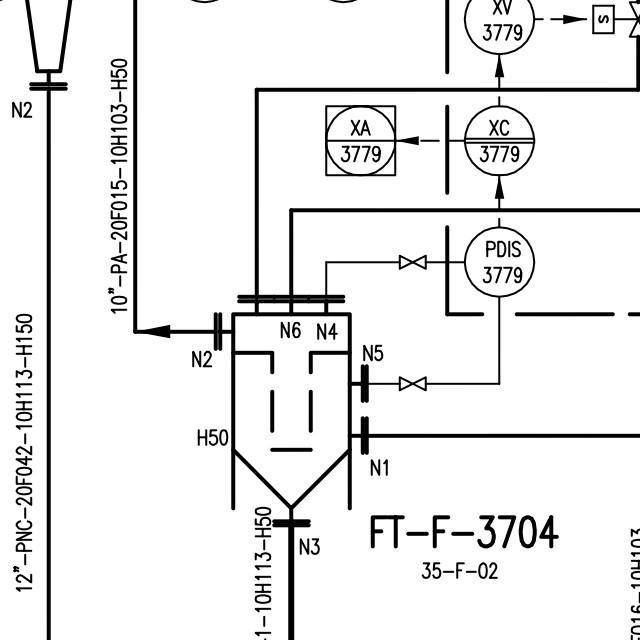FT2: (223, 307, 358, 525)
GV: (393, 250, 430, 273), (395, 372, 430, 392)
SV: (584, 0, 640, 37)
